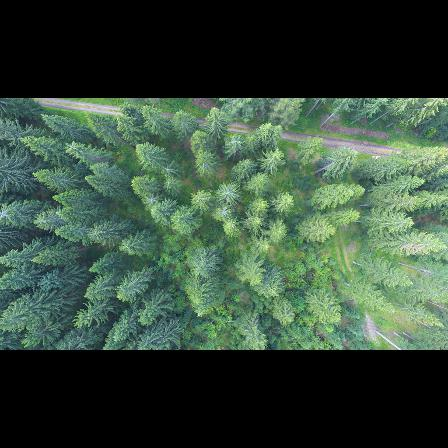Sick: (216, 186, 240, 200), (141, 193, 160, 207), (160, 162, 175, 176), (217, 206, 231, 220)
